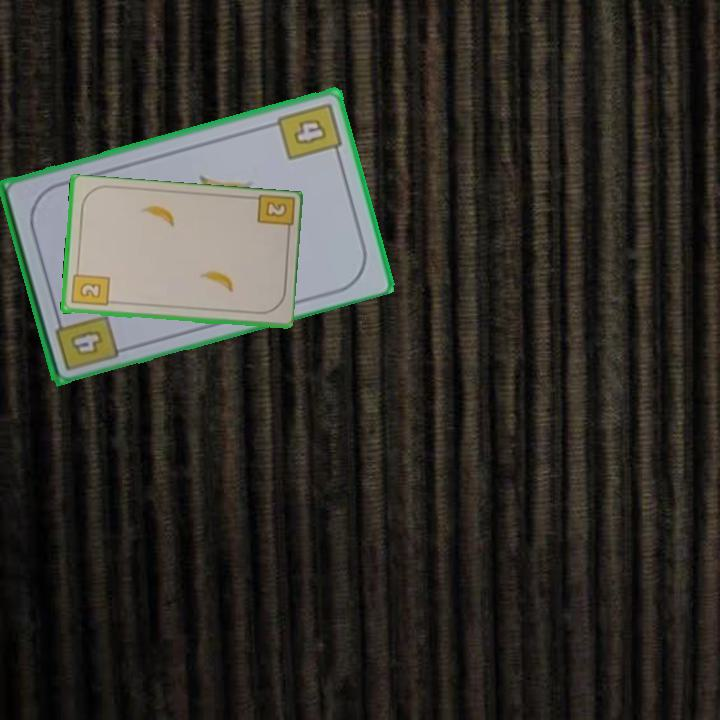2b: (253, 193, 295, 240), (68, 265, 111, 309)
4b: (273, 98, 345, 163), (51, 309, 121, 374)
